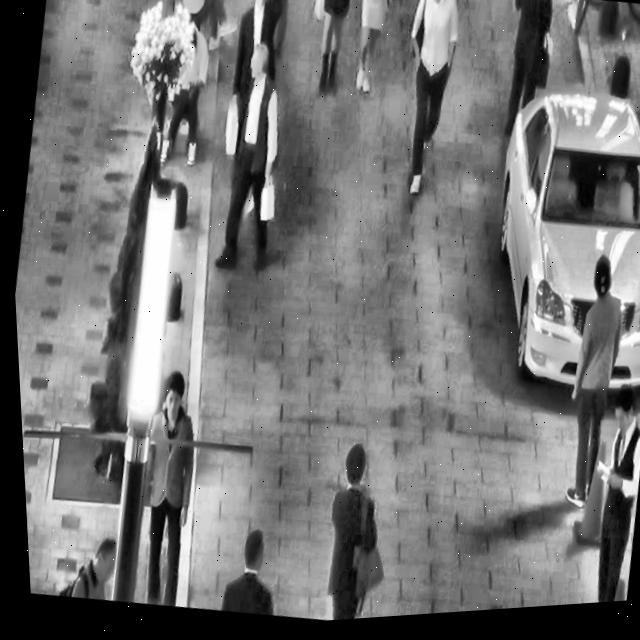light_vehicle: (458, 66, 640, 422)
